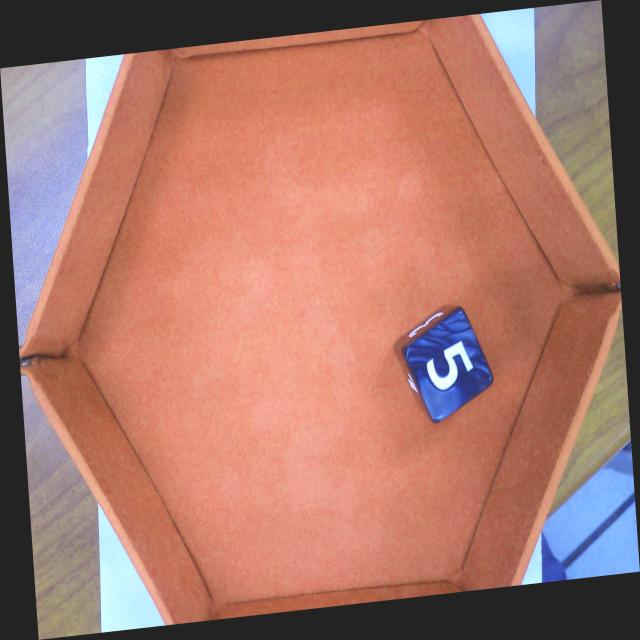dice: (399, 303, 496, 428)
